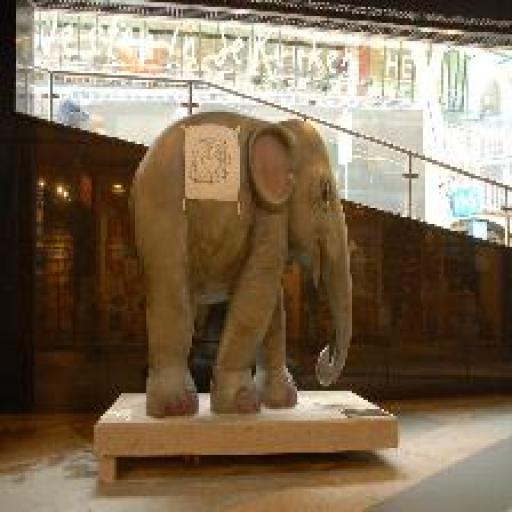Elephant: (128, 110, 354, 416)
